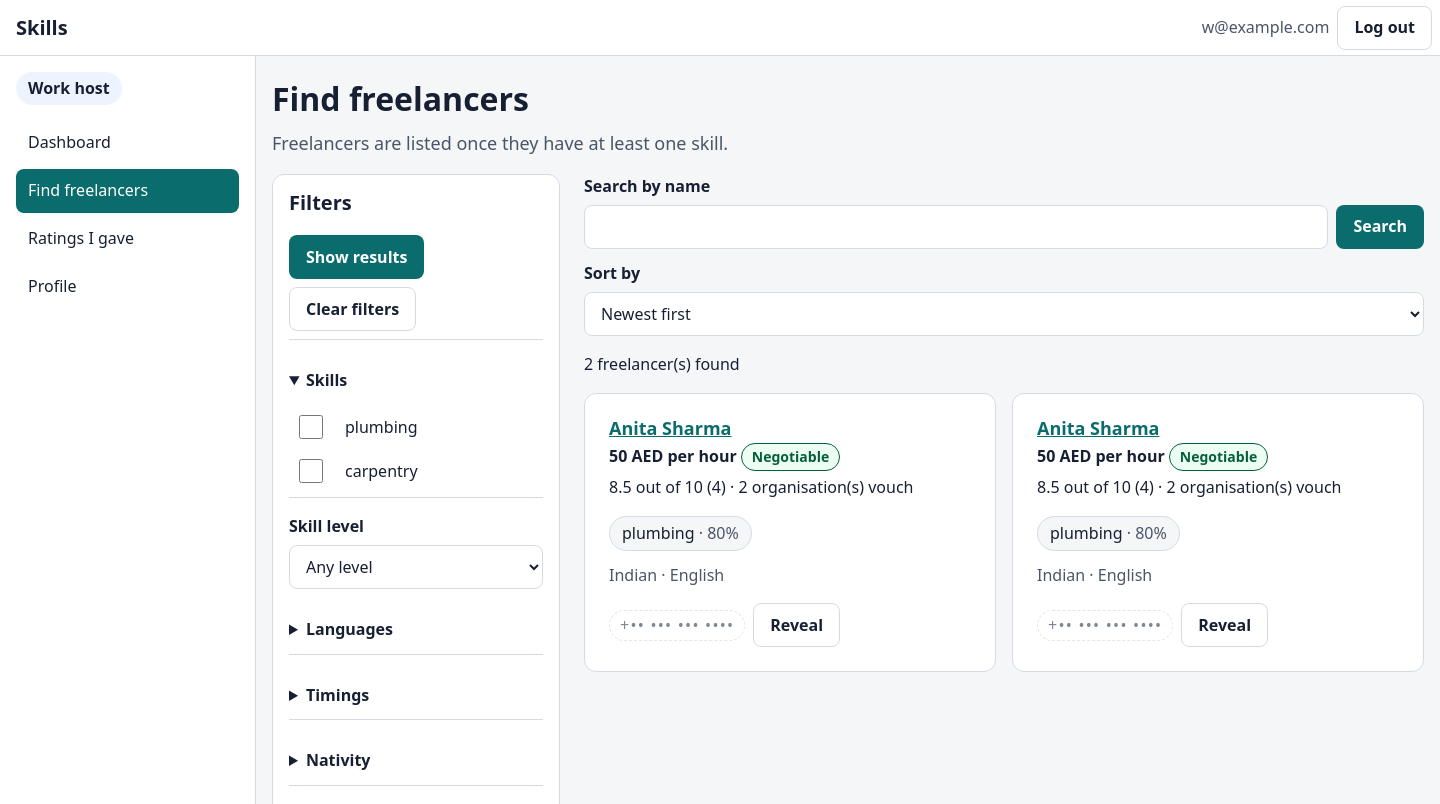
search › searches by name and shows the name as a removable filter
Step 1. Type "anita" into the field labelled "Search by name" → [956, 227], box [584,205,1328,249]
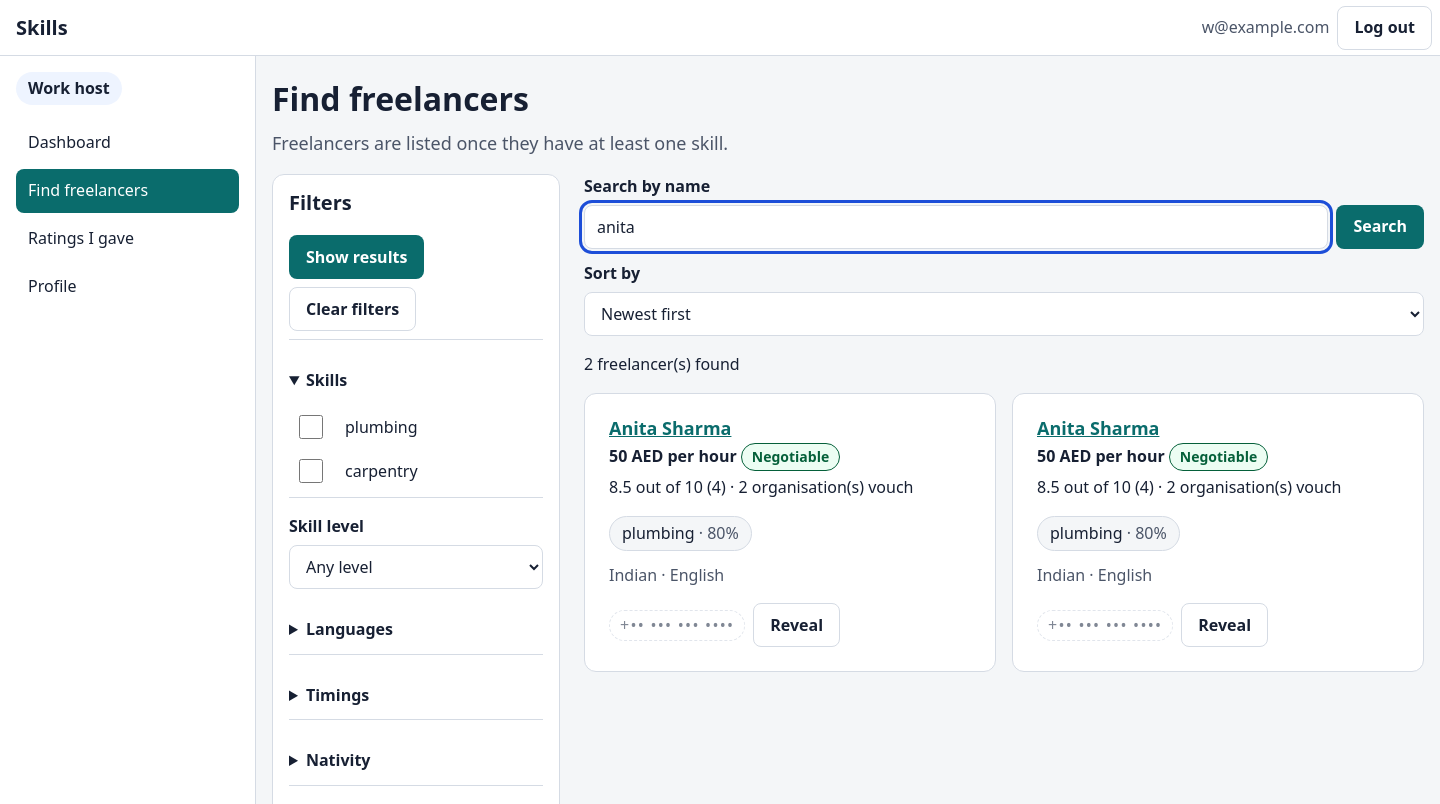
Step 2. Click the button "Search" → [1380, 227], box [1336,205,1424,249]
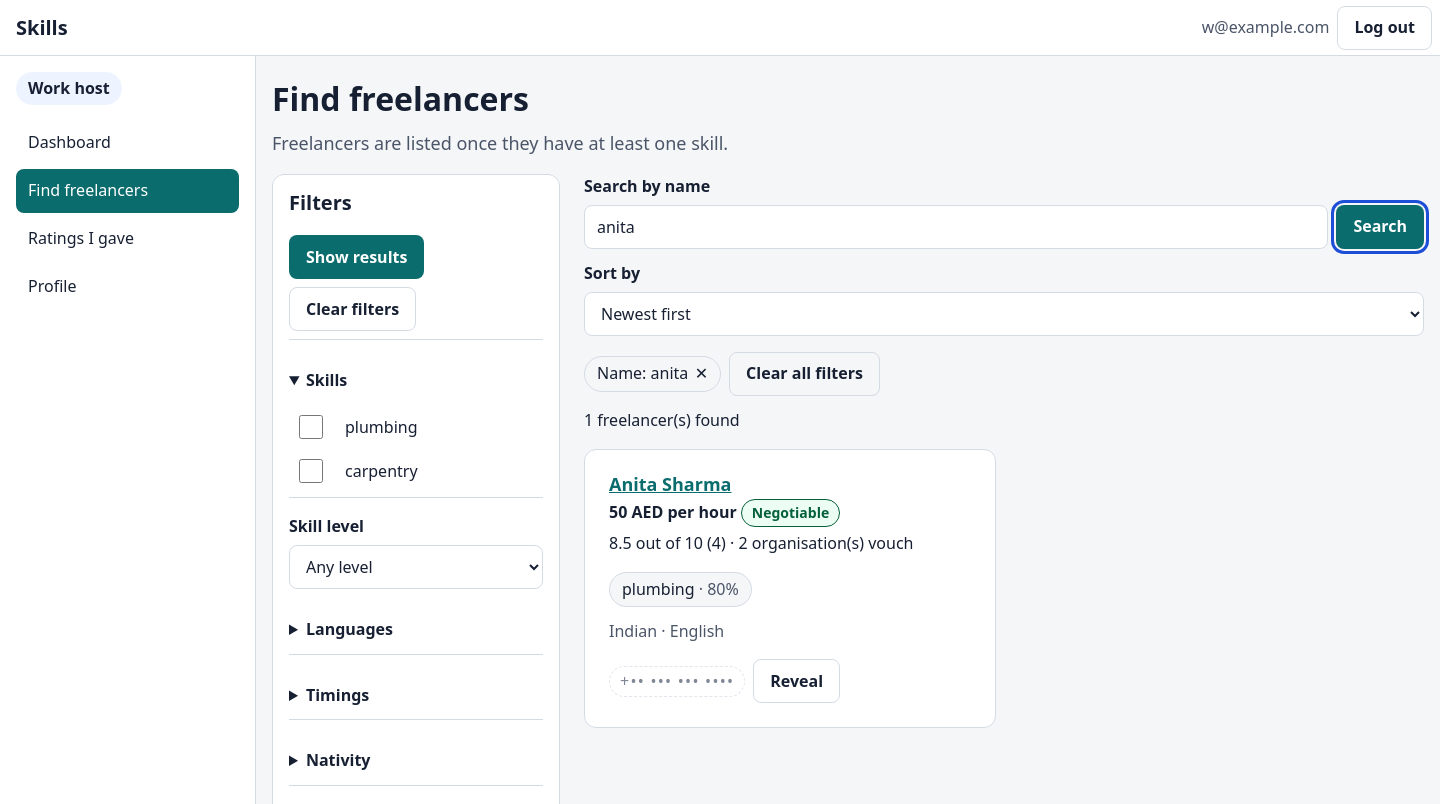
Check: the text "1 freelancer(s) found" is shown, box [584,409,740,431]
Step 3. Click the button with aria-label "Remove filter: Name: anita" → [653, 374], box [584,356,721,392]
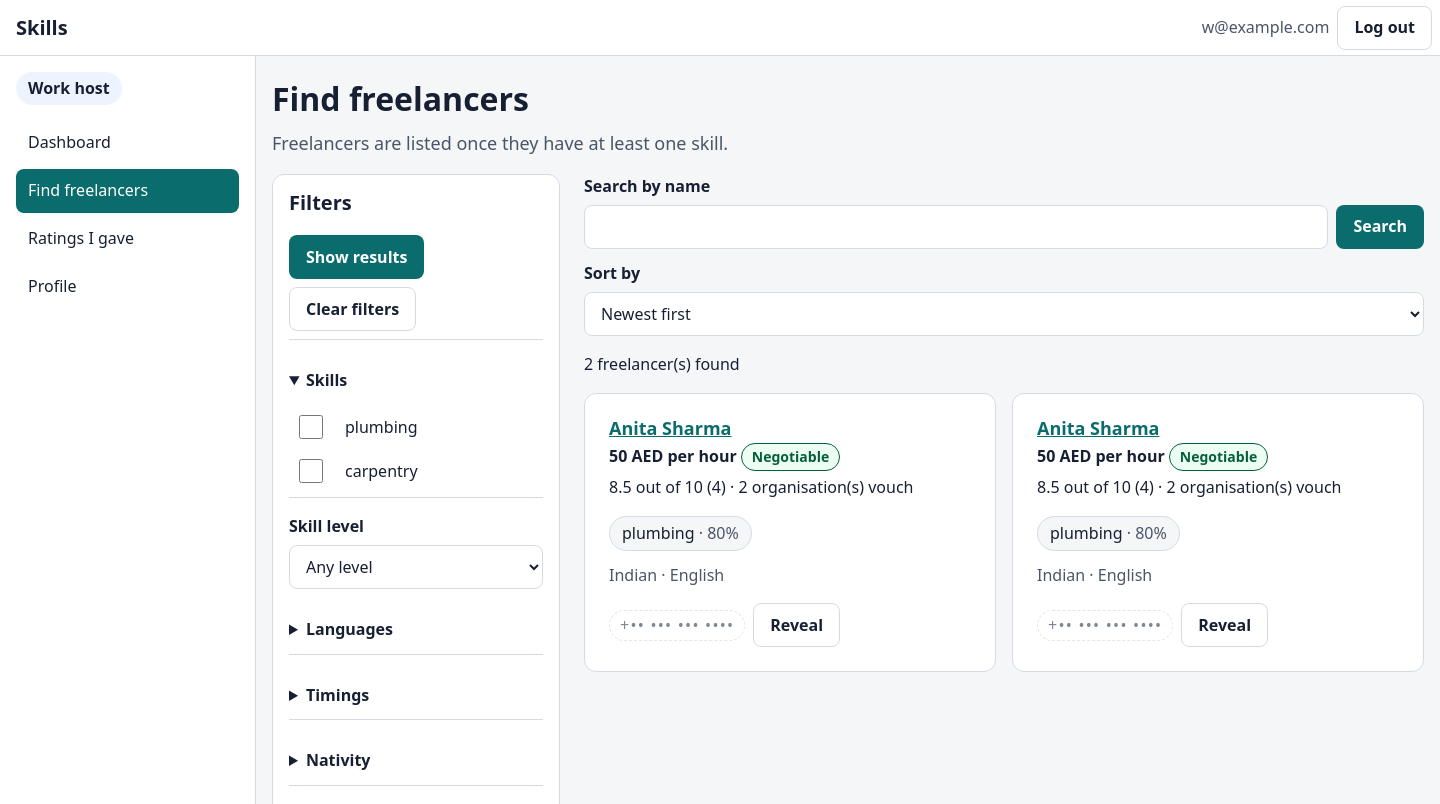
Check: the field labelled "Search by name" is empty, box [584,205,1328,249]
